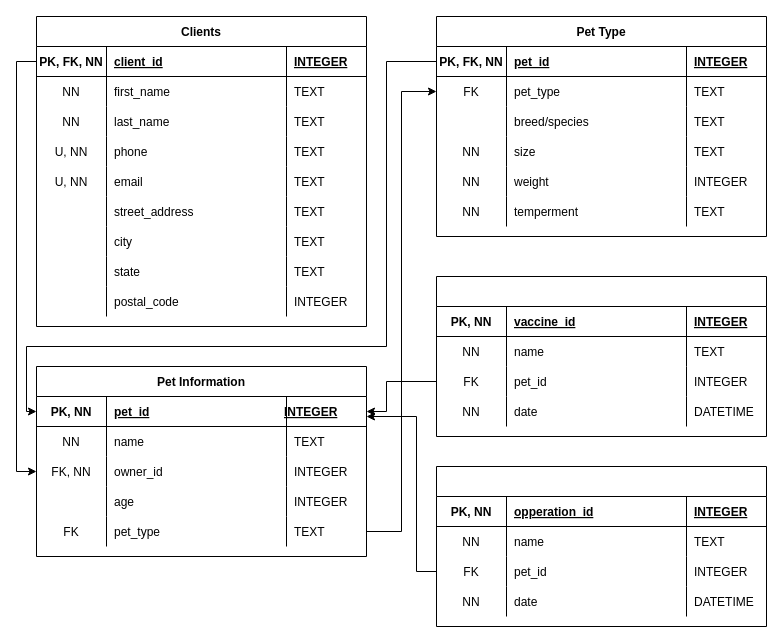
This 783x643 diagram has some shape labels left out. The box of each missing label's shape, as (x1, y1, x2, y2) in pixels:
Opperations: (436, 466, 766, 626)
Vaccines: (436, 276, 766, 436)
